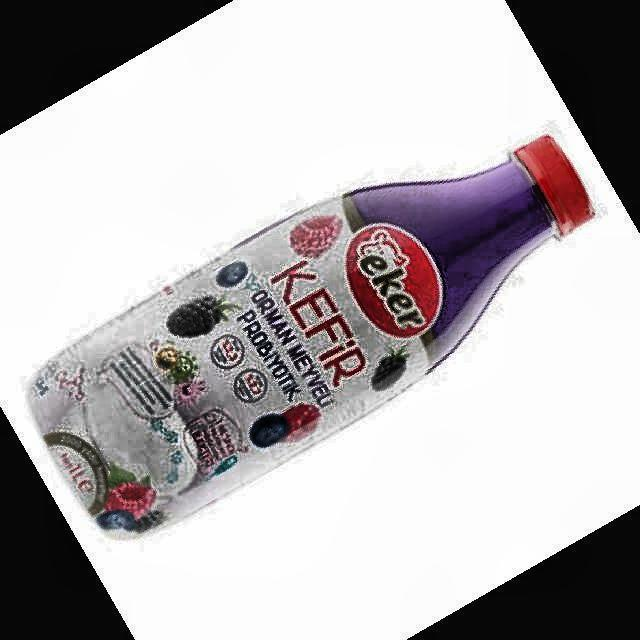plastic: (30, 137, 590, 533)
